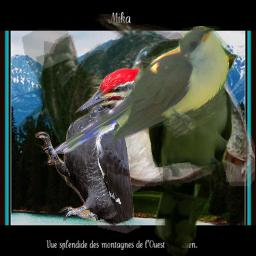Cuckoo: (49, 26, 229, 154), (147, 45, 238, 256)
Swallow: (8, 14, 255, 236)
Woodpecker: (35, 67, 139, 227)
